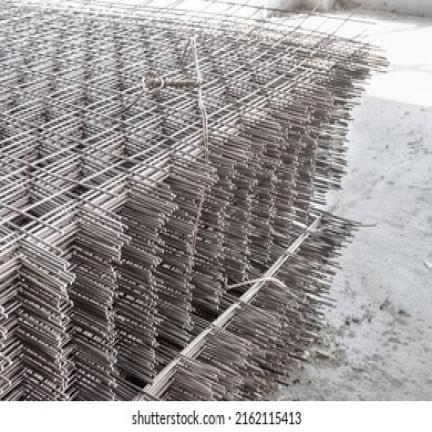besi_tidak_karat: (0, 2, 386, 401)
